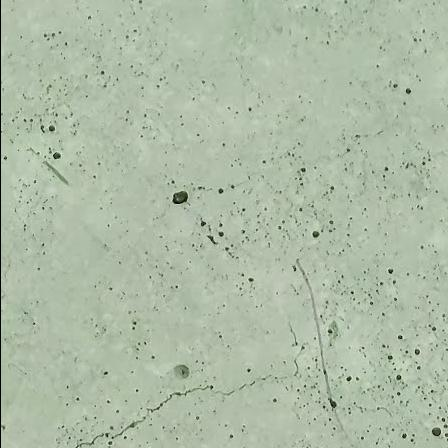crack: (58, 318, 315, 448)
spalling: (169, 189, 189, 206)
